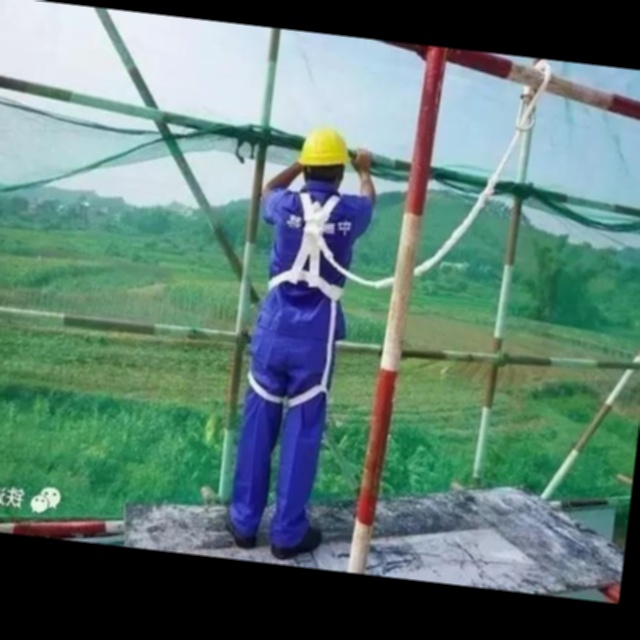Con_Casco: (296, 124, 351, 191)
